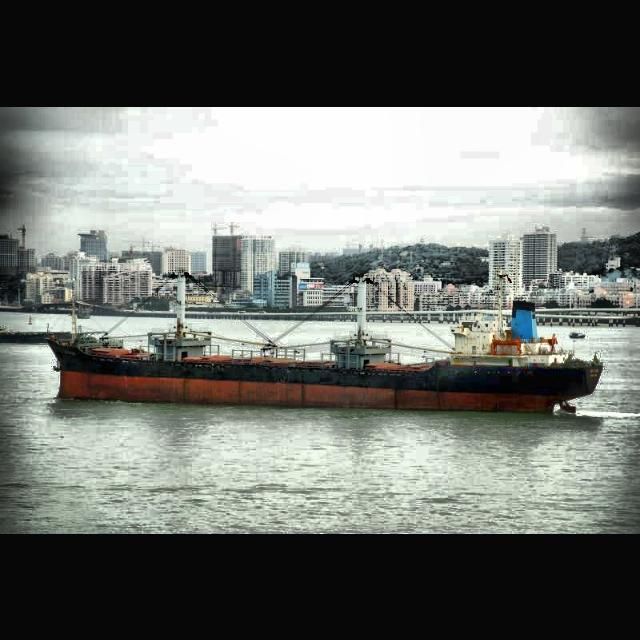bulk_carrier: (45, 268, 605, 416)
